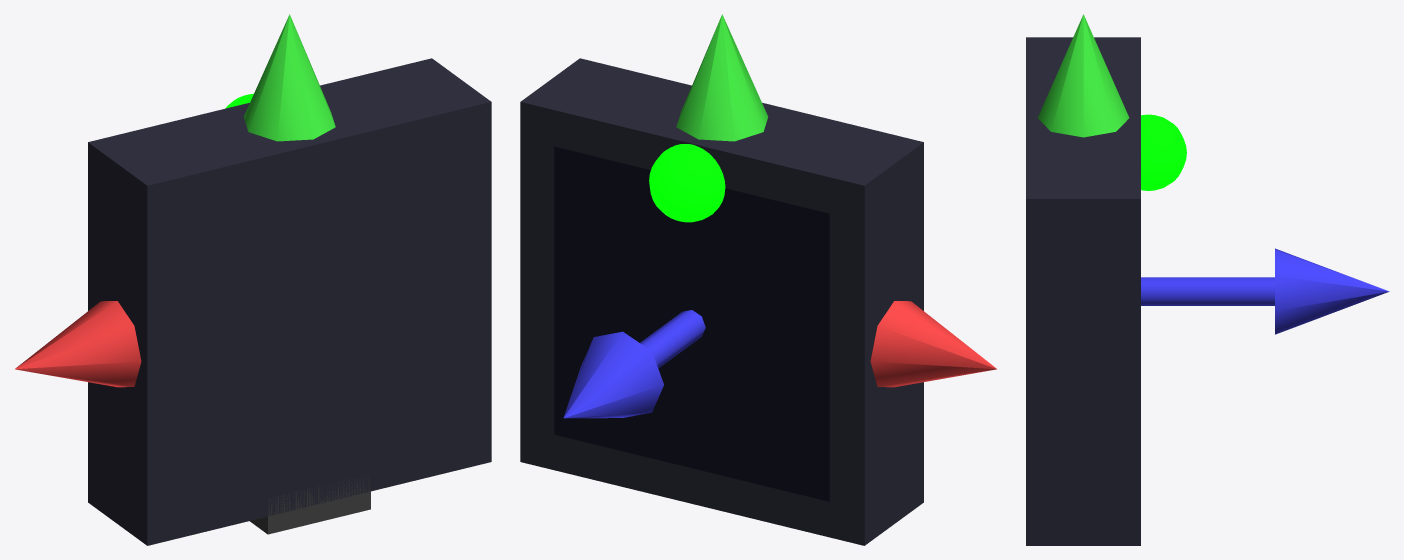
Rendered from flysight.gltf.
3 views of the same model, side by side, from view 1: azimuth 30°, elevation 25°; view 2: azimuth 150°, elevation 25°; view 3: azimuth 270°, elevation 25° (orthographic). The views are drawn at different scales.
Parts seen in each view (by area): view 1: Body, Axis_X, Axis_Y, USB_Port; view 2: Body, Screen, Axis_Z, Axis_X, Axis_Y, LED; view 3: Body, Axis_Z, Axis_Y, LED.
Boxes of the visible parts, x1=… form: Body: x1=88, y1=58, x2=491, y2=545; Axis_X: x1=15, y1=301, x2=141, y2=387; Axis_Y: x1=243, y1=14, x2=335, y2=141; USB_Port: x1=250, y1=474, x2=370, y2=534; Body: x1=520, y1=58, x2=923, y2=545; Screen: x1=554, y1=146, x2=829, y2=501; Axis_Z: x1=563, y1=310, x2=705, y2=418; Axis_X: x1=870, y1=301, x2=996, y2=387; Axis_Y: x1=676, y1=14, x2=768, y2=141; LED: x1=649, y1=144, x2=725, y2=222; Body: x1=1026, y1=37, x2=1140, y2=545; Axis_Z: x1=1141, y1=248, x2=1389, y2=334; Axis_Y: x1=1038, y1=14, x2=1129, y2=137; LED: x1=1141, y1=114, x2=1186, y2=190.
Size of the model in its own units: 0.65 by 0.675 by 0.475.
